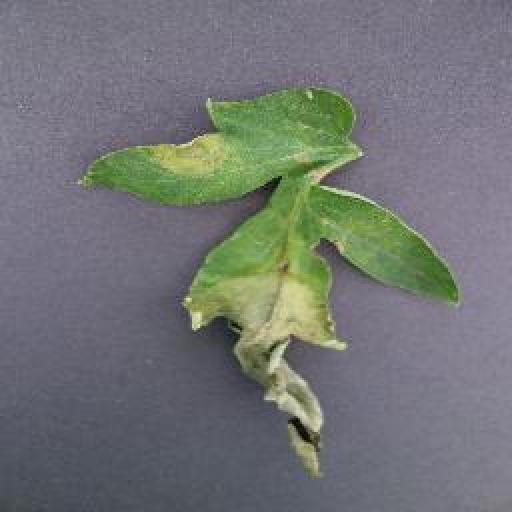disease_tomato: (76, 84, 461, 479)
